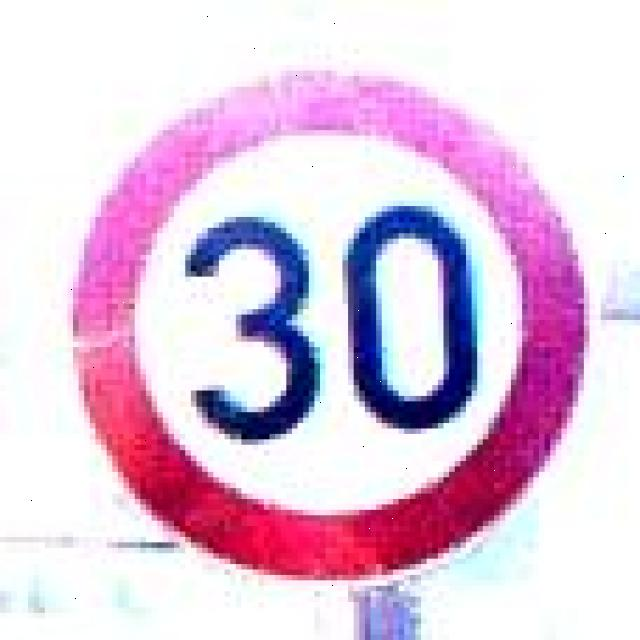speed limit 30: (73, 65, 593, 590)
